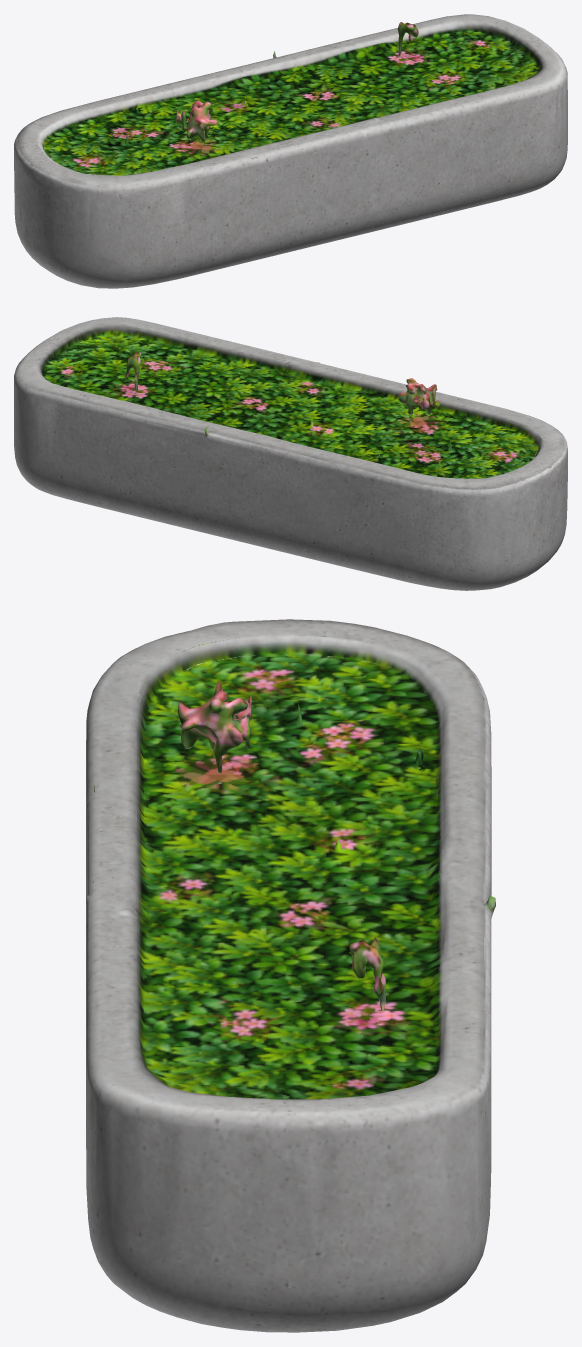
The model's file is planter.glb.
3 views of the same model, one above another, from view 1: azimuth 30°, elevation 25°; view 2: azimuth 150°, elevation 25°; view 3: azimuth 270°, elevation 25° (orthographic). The views are drawn at different scales.
Visible parts, largest first — view 1: low; view 2: low; view 3: low.
Boxes of the visible parts, x1,y1,x2,y2 form: low: (14,14,567,288); low: (14,317,567,590); low: (86,619,495,1332).
Bounding box in the file's own units: 1.87 × 0.5627 × 0.6471.
1 material, 1 textured.
